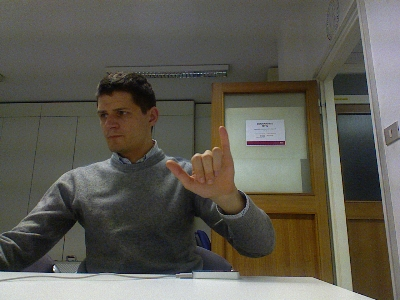六六六: (163, 122, 237, 199)
